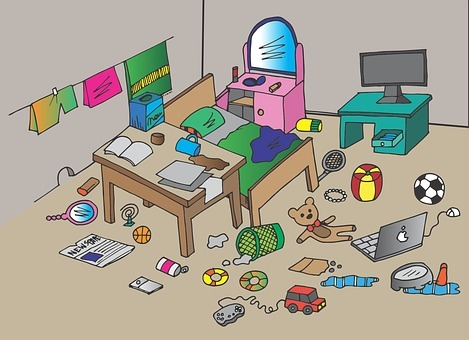car: (280, 279, 329, 319)
diningtable: (91, 106, 250, 259)
tvmonitor: (357, 41, 430, 102)
